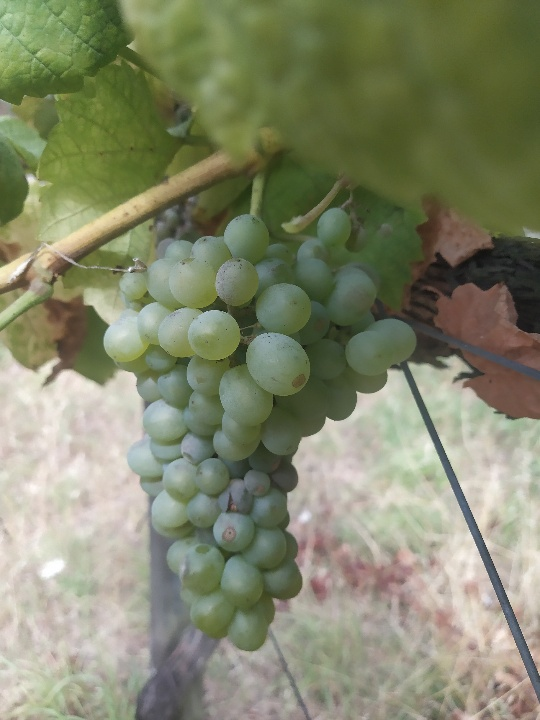grape: (104, 206, 419, 656)
